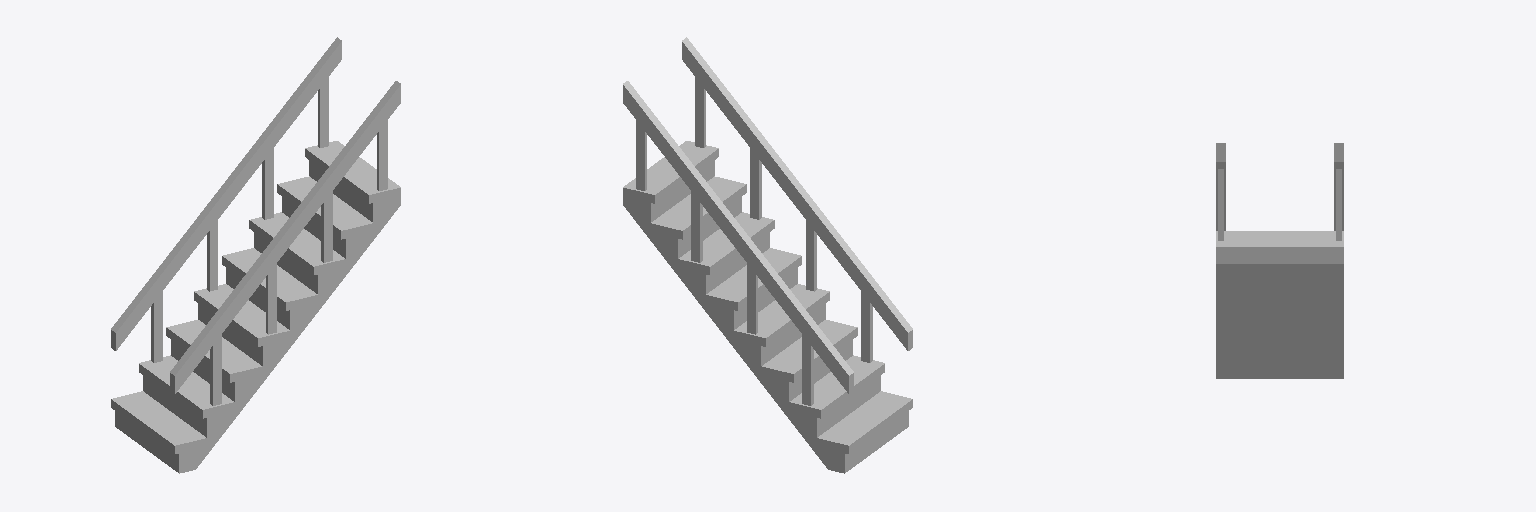
File: stairsStoneHandrail.obj
3 views of the same model, side by side, from view 1: azimuth 30°, elevation 25°; view 2: azimuth 150°, elevation 25°; view 3: azimuth 270°, elevation 25° (orthographic).
Parts seen in each view (by area): view 1: stairsStoneHandrail, rail; view 2: stairsStoneHandrail, rail; view 3: stairsStoneHandrail, rail.
Boxes of the visible parts, <box> form: stairsStoneHandrail: <box>111,141,400,473</box>; rail: <box>111,37,400,405</box>; stairsStoneHandrail: <box>623,141,912,473</box>; rail: <box>623,37,912,405</box>; stairsStoneHandrail: <box>1216,231,1343,378</box>; rail: <box>1216,143,1343,240</box>.
Size of the model in its own units: 1.02 by 1.45 by 0.5.